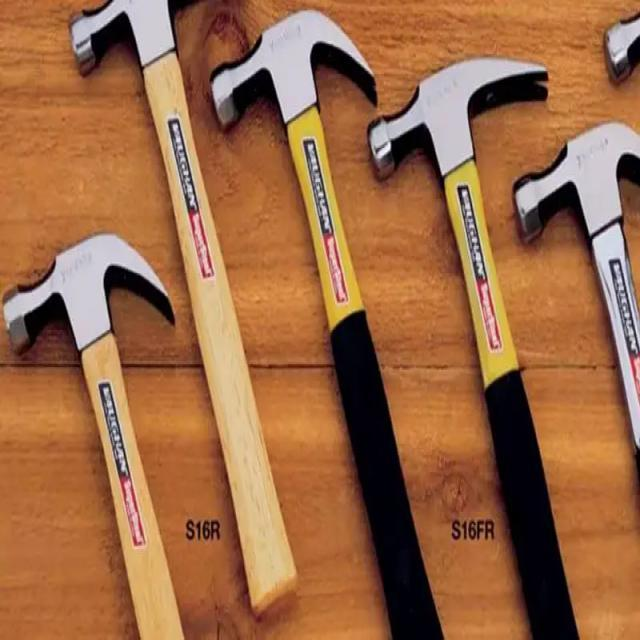hammer: (207, 3, 437, 640), (67, 0, 299, 626), (360, 48, 578, 640), (3, 223, 176, 640), (508, 113, 640, 544)
